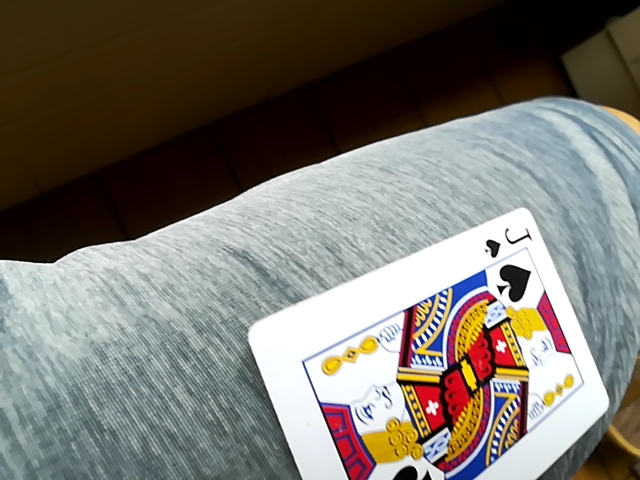ht j: (251, 199, 609, 478)
